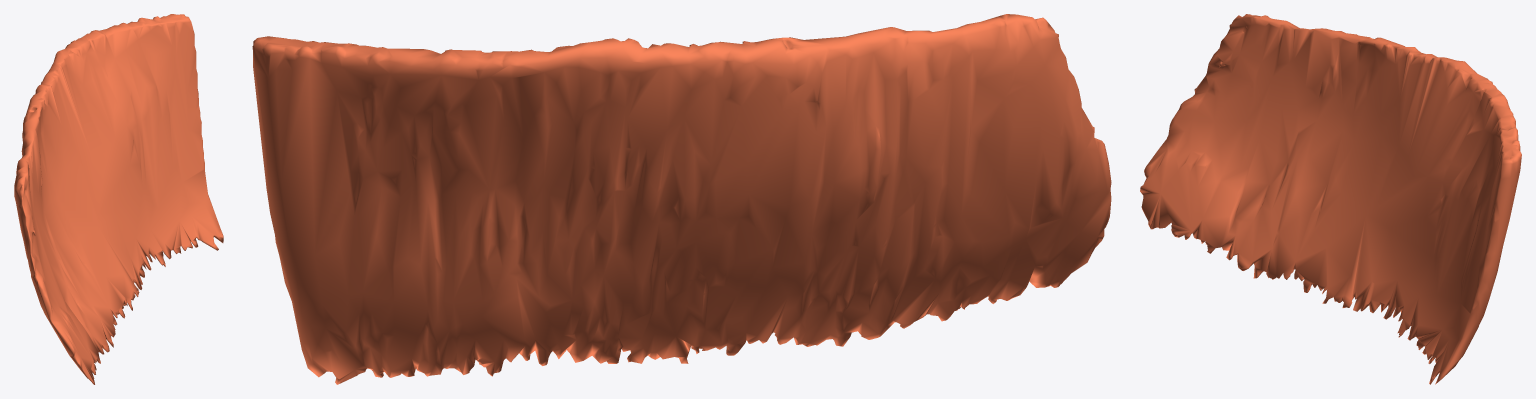
Rendered from Occipitalis.r_Generated_Mesh_From_X3D.322.glb.
3 renders of one model, left to right at view 1: azimuth 30°, elevation 25°; view 2: azimuth 150°, elevation 25°; view 3: azimuth 270°, elevation 25°, orthographic. The views are drawn at different scales.
Parts seen in each view (by area): view 1: Occipitalis.r_Generated_Mesh_From_X3D.322; view 2: Occipitalis.r_Generated_Mesh_From_X3D.322; view 3: Occipitalis.r_Generated_Mesh_From_X3D.322.
Part boxes in pixels (left/top/right/bottom): Occipitalis.r_Generated_Mesh_From_X3D.322: left=14, top=14, right=223, bottom=384; Occipitalis.r_Generated_Mesh_From_X3D.322: left=252, top=14, right=1111, bottom=384; Occipitalis.r_Generated_Mesh_From_X3D.322: left=1140, top=14, right=1521, bottom=384.
Size of the model in its own units: 0.0466 by 0.0331 by 0.0466.
